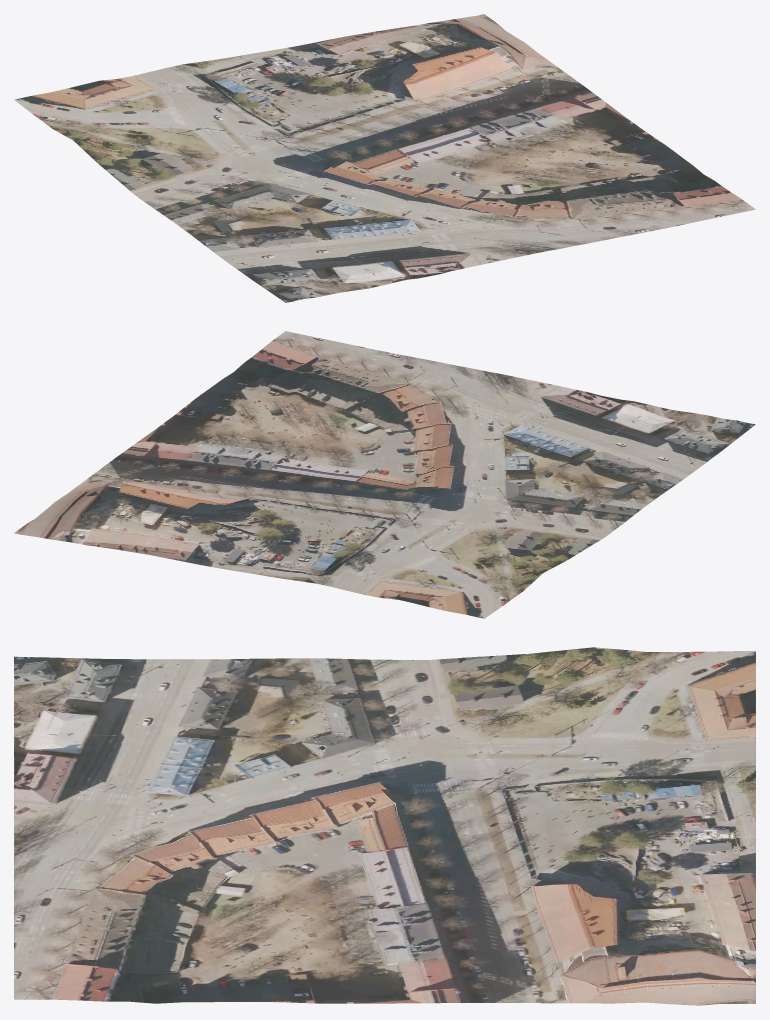
The model's file is CM_Terrain_24485954_6821022.fbx.
The picture shows the model from 3 angles, top to bottom: view 1: azimuth 30°, elevation 25°; view 2: azimuth 150°, elevation 25°; view 3: azimuth 270°, elevation 25°; orthographic projection. The views are drawn at different scales.
Visible parts, largest first — view 1: CM_Terrain_24485954_6821022_LOD0; view 2: CM_Terrain_24485954_6821022_LOD0; view 3: CM_Terrain_24485954_6821022_LOD0.
Boxes of the visible parts, x1,y1,x2,y2 form: CM_Terrain_24485954_6821022_LOD0: (14, 14, 755, 302); CM_Terrain_24485954_6821022_LOD0: (14, 331, 755, 618); CM_Terrain_24485954_6821022_LOD0: (14, 647, 755, 1005).
Size of what is drawn, in the model's own units: 205 by 13.64 by 205.
